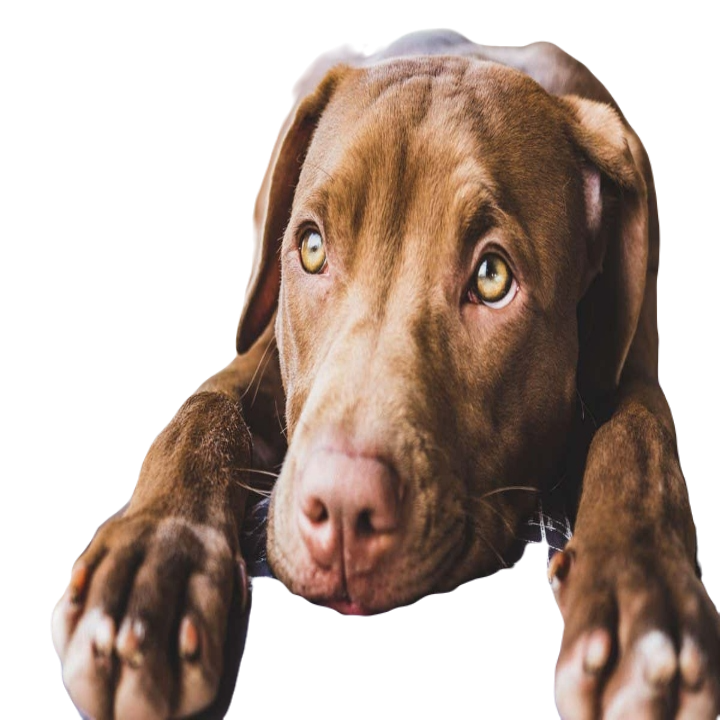Dog: (52, 28, 719, 719)
